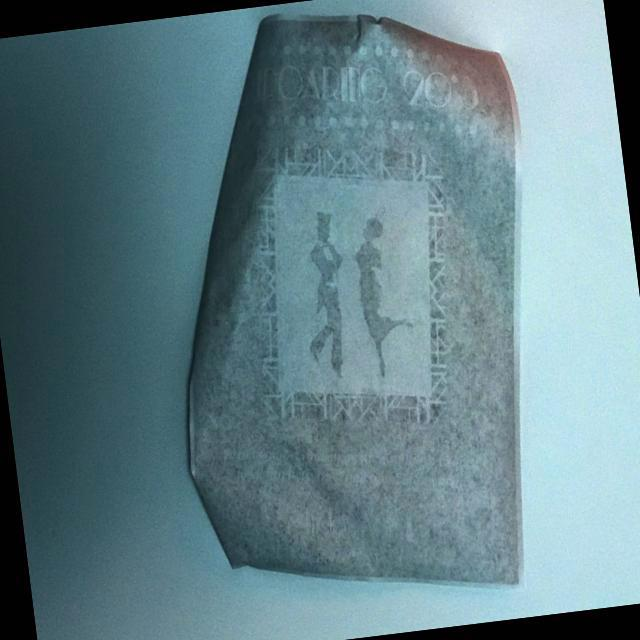paper: (109, 0, 593, 640)
